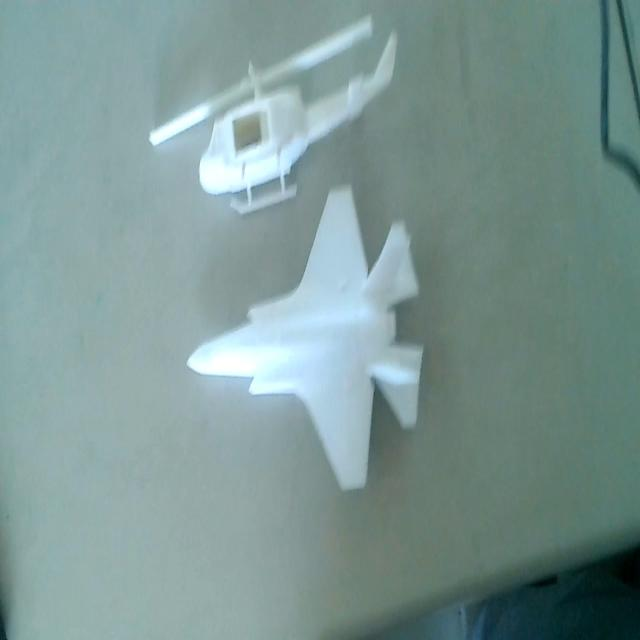Helicopter: (144, 18, 399, 220)
Jet: (185, 177, 427, 494)
